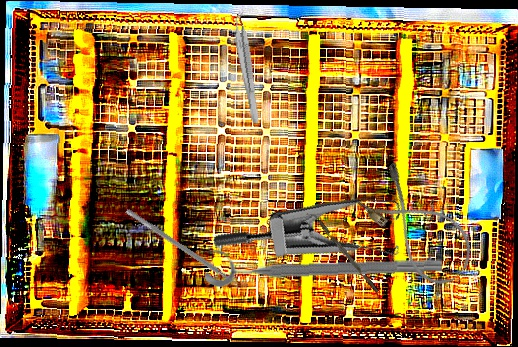Cannula: (351, 158, 484, 295)
Chopper: (305, 208, 380, 297)
Fixation Ring: (204, 238, 443, 288)
Spatula Surgical: (122, 208, 244, 293)
Speculum: (210, 159, 456, 336)
Tissue Forceps: (229, 11, 267, 124)
